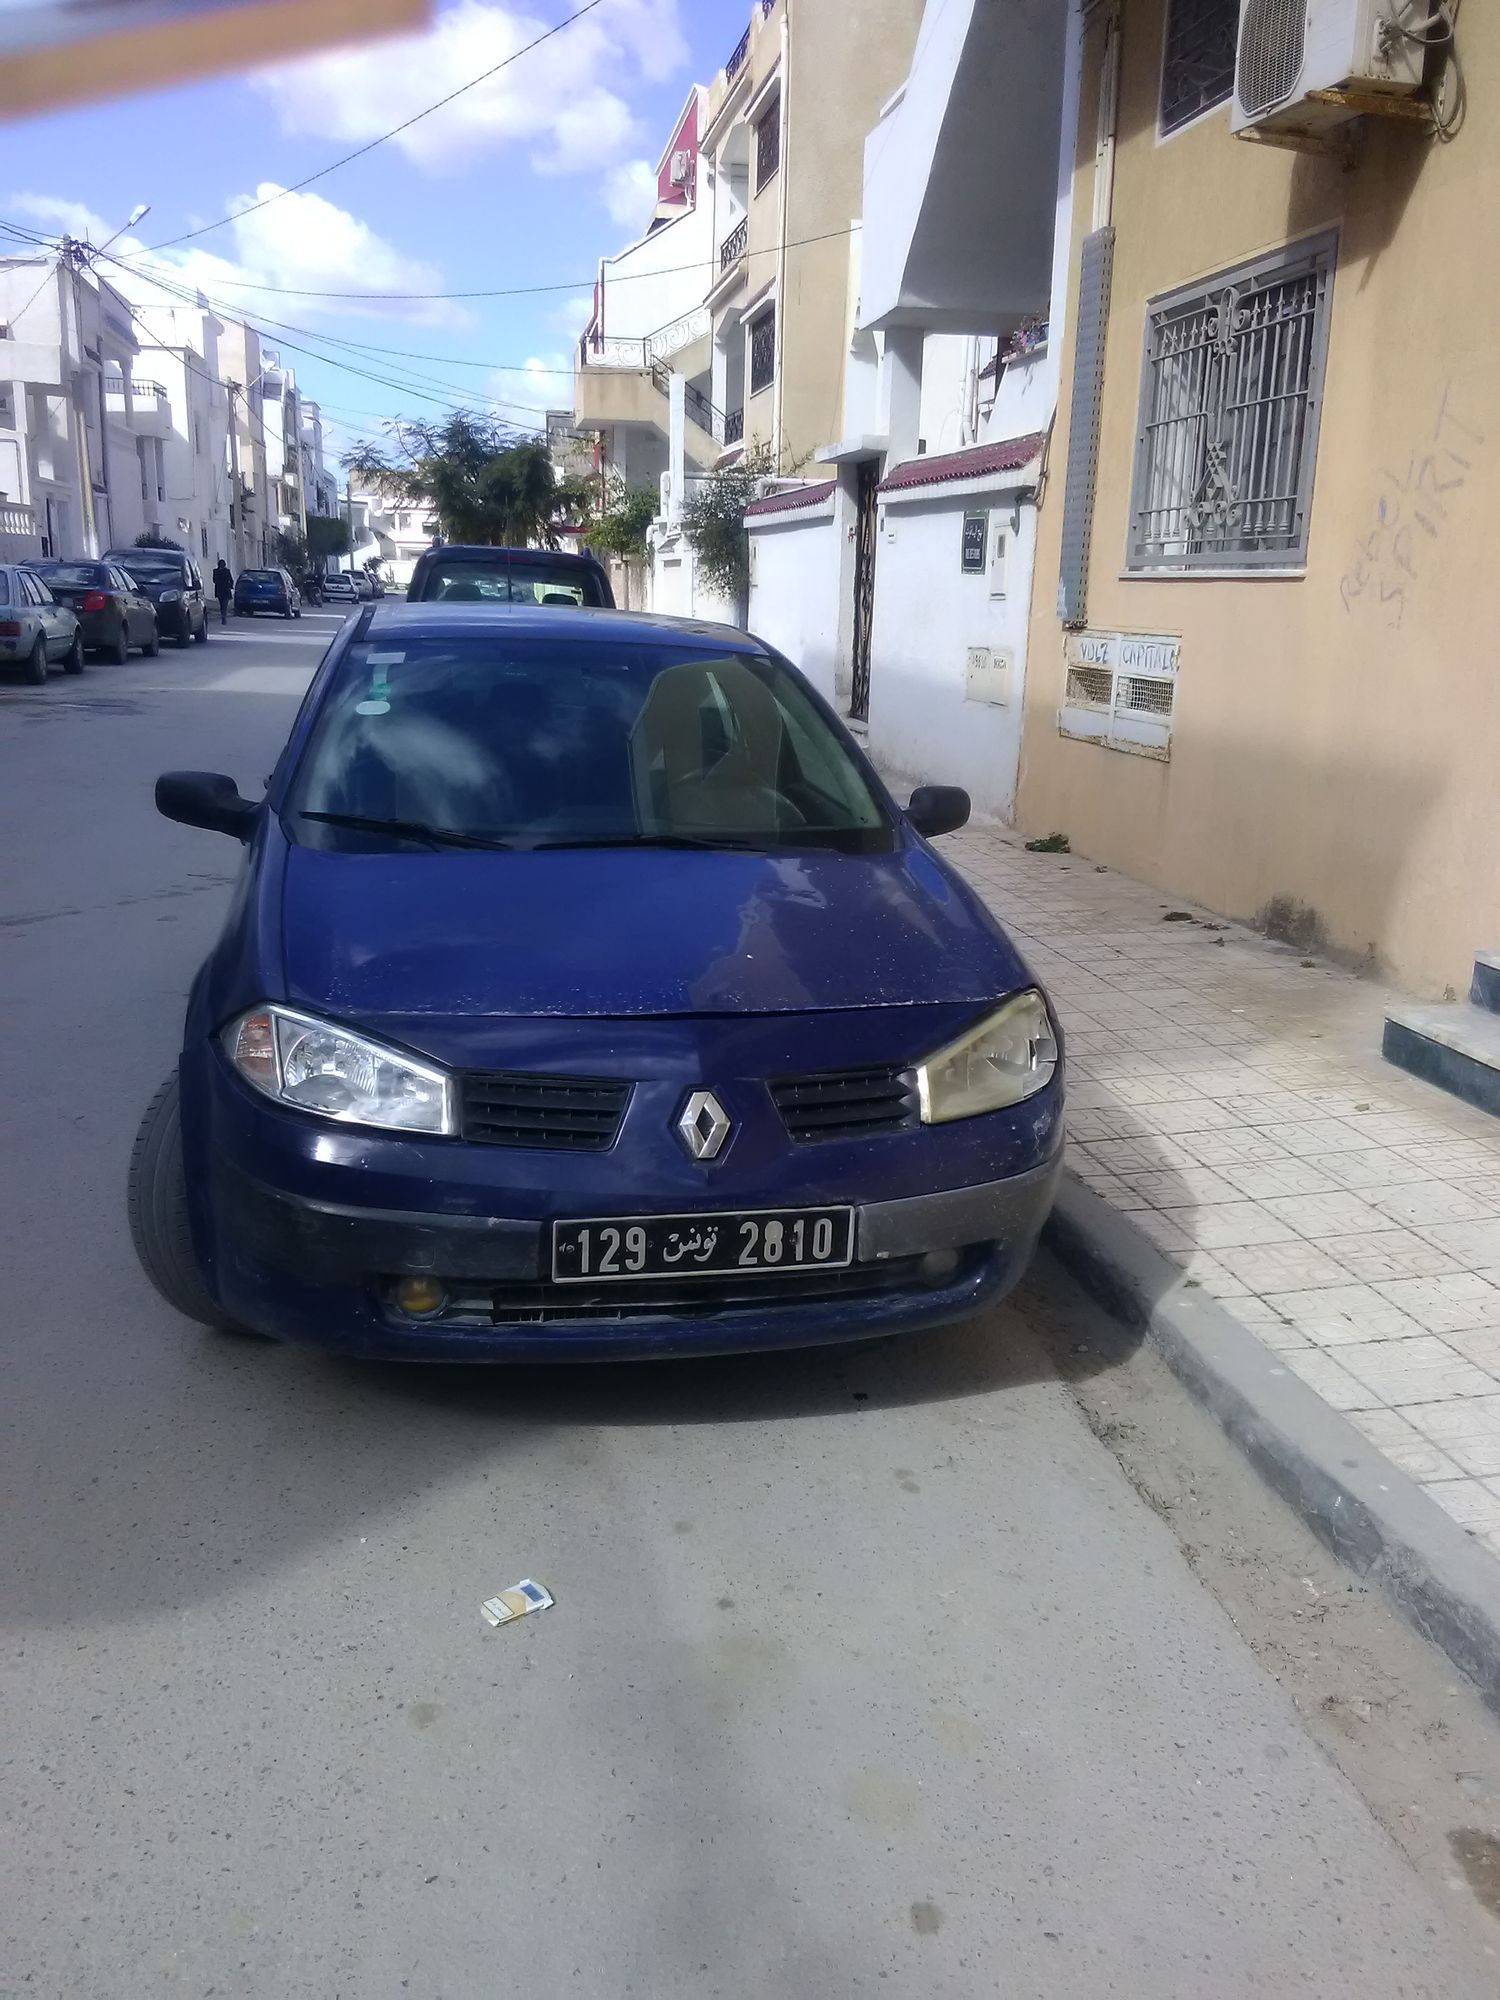LP: (548, 1206, 858, 1283)
